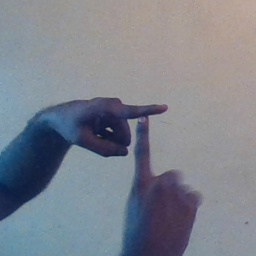T: (81, 83, 192, 199)
